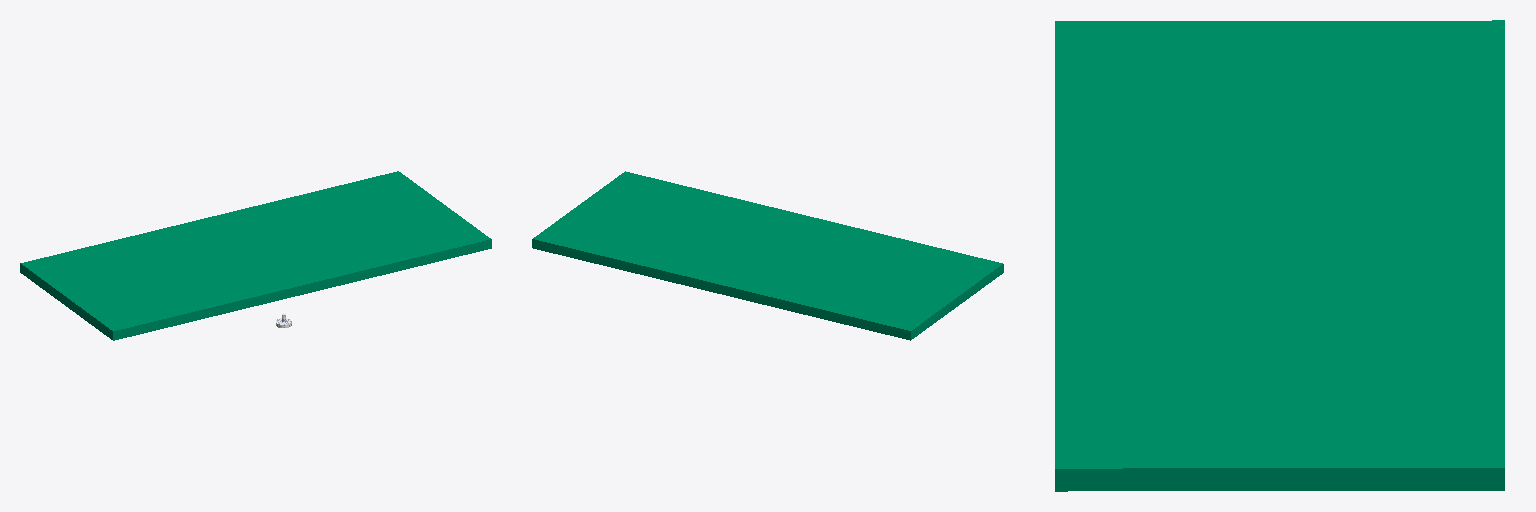
URDF robot description (right-pull-door):
<?xml version="1.0" ?>
<robot name="right-pull-door">
	<link name="base"/>
	<link name="link_0">
		<visual name="out-frame">
			<origin xyz="0 0 0"/>
			<geometry>
				<mesh filename="texture_dae/frame.dae" scale="1.1395901382162406 1.1395901382162406 1.1395901382162406"/>
			</geometry>
		</visual>
		<collision>
			<origin xyz="0 0 0"/>
			<geometry>
				<mesh filename="texture_dae/frame.dae" scale="1.1395901382162406 1.1395901382162406 1.1395901382162406"/>
			</geometry>
		</collision>
	</link>
	<joint name="joint_0" type="fixed">
		<origin rpy="1.570796326794897 0 -1.570796326794897" xyz="0 0 0"/>
		<child link="link_0"/>
		<parent link="base"/>
	</joint>
	<link name="link_1">
		<visual name="surf-board">
			<origin xyz="0.3873468247080005 -0.891316019075276 0"/>
			<geometry>
				<mesh filename="texture_dae/board.dae" scale="1.1395901382162406 1.1395901382162406 1.1395901382162406"/>
			</geometry>
		</visual>
		<collision>
			<origin xyz="0.3873468247080005 -0.891316019075276 0"/>
			<geometry>
				<mesh filename="texture_dae/board.dae" scale="1.1395901382162406 1.1395901382162406 1.1395901382162406"/>
			</geometry>
		</collision>
	</link>
	<joint name="joint_1" type="revolute">
		<origin xyz="-0.3873468247080005 0.891316019075276 0"/>
		<axis xyz="0 -1 0"/>
		<child link="link_1"/>
		<parent link="link_0"/>
		<limit lower="0" upper="1.5079644737231006"/>
	</joint>
	<link name="link_2">
		<visual name="handle">
			<origin xyz="0 0 0"/>
			<geometry>
				<mesh filename="texture_dae/9962030.dae" scale="1.6583782825068203 1.6583782825068203 1.6583782825068203"/>
			</geometry>
		</visual>
		<collision>
			<origin xyz="0 0 0"/>
			<geometry>
				<mesh filename="texture_dae/9962030.dae" scale="1.6583782825068203 1.6583782825068203 1.6583782825068203"/>
			</geometry>
		</collision>
	</link>
	<joint name="joint_2" type="revolute">
		<origin xyz="0.6953003427910363 -1.0256610878223555 0.02229706594225731"/>
		<child link="link_2"/>
		<parent link="link_1"/>
		<axis xyz="0 0 1"/>
		<limit lower="0" upper="1.5079644737231006"/>
	</joint>
</robot>

--- Facts derived from the render (not from the file) ---
Views: 3 orthographic renders of the robot side by side, from view 1: azimuth 30°, elevation 25°; view 2: azimuth 150°, elevation 25°; view 3: azimuth 270°, elevation 25°.
Robot: right-pull-door — 4 links, 3 joints (2 revolute, 1 fixed); root link base; default pose: all joints at 0.
Links seen in each view (by area): view 1: link_1; view 2: link_1; view 3: link_1.
Link boxes in pixels (left/top/right/bottom): link_1: left=20, top=171, right=491, bottom=340; link_1: left=532, top=171, right=1003, bottom=340; link_1: left=1055, top=20, right=1504, bottom=491.
Size in the robot's own frame: 1.83 by 0.7753 by 0.2065 metres.
2 mesh visuals loaded from 3 distinct referenced files (2 Collada DAE); not drawn: 1 (reference not matched to a file when rendering).
